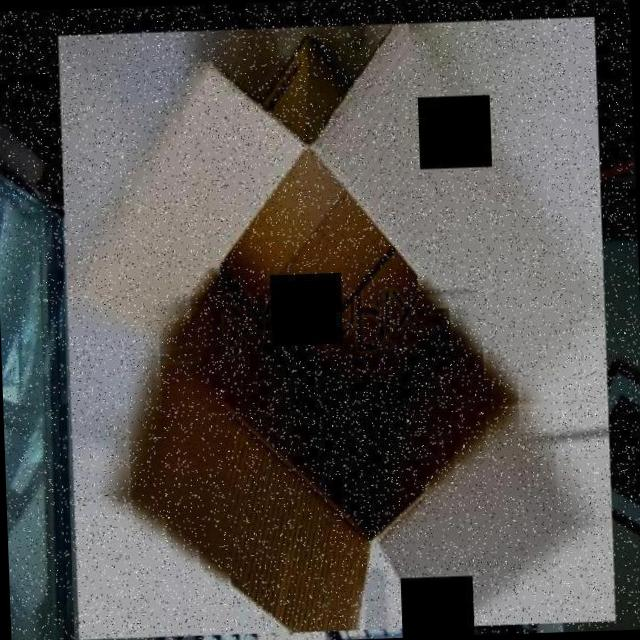box: (50, 5, 624, 640)
